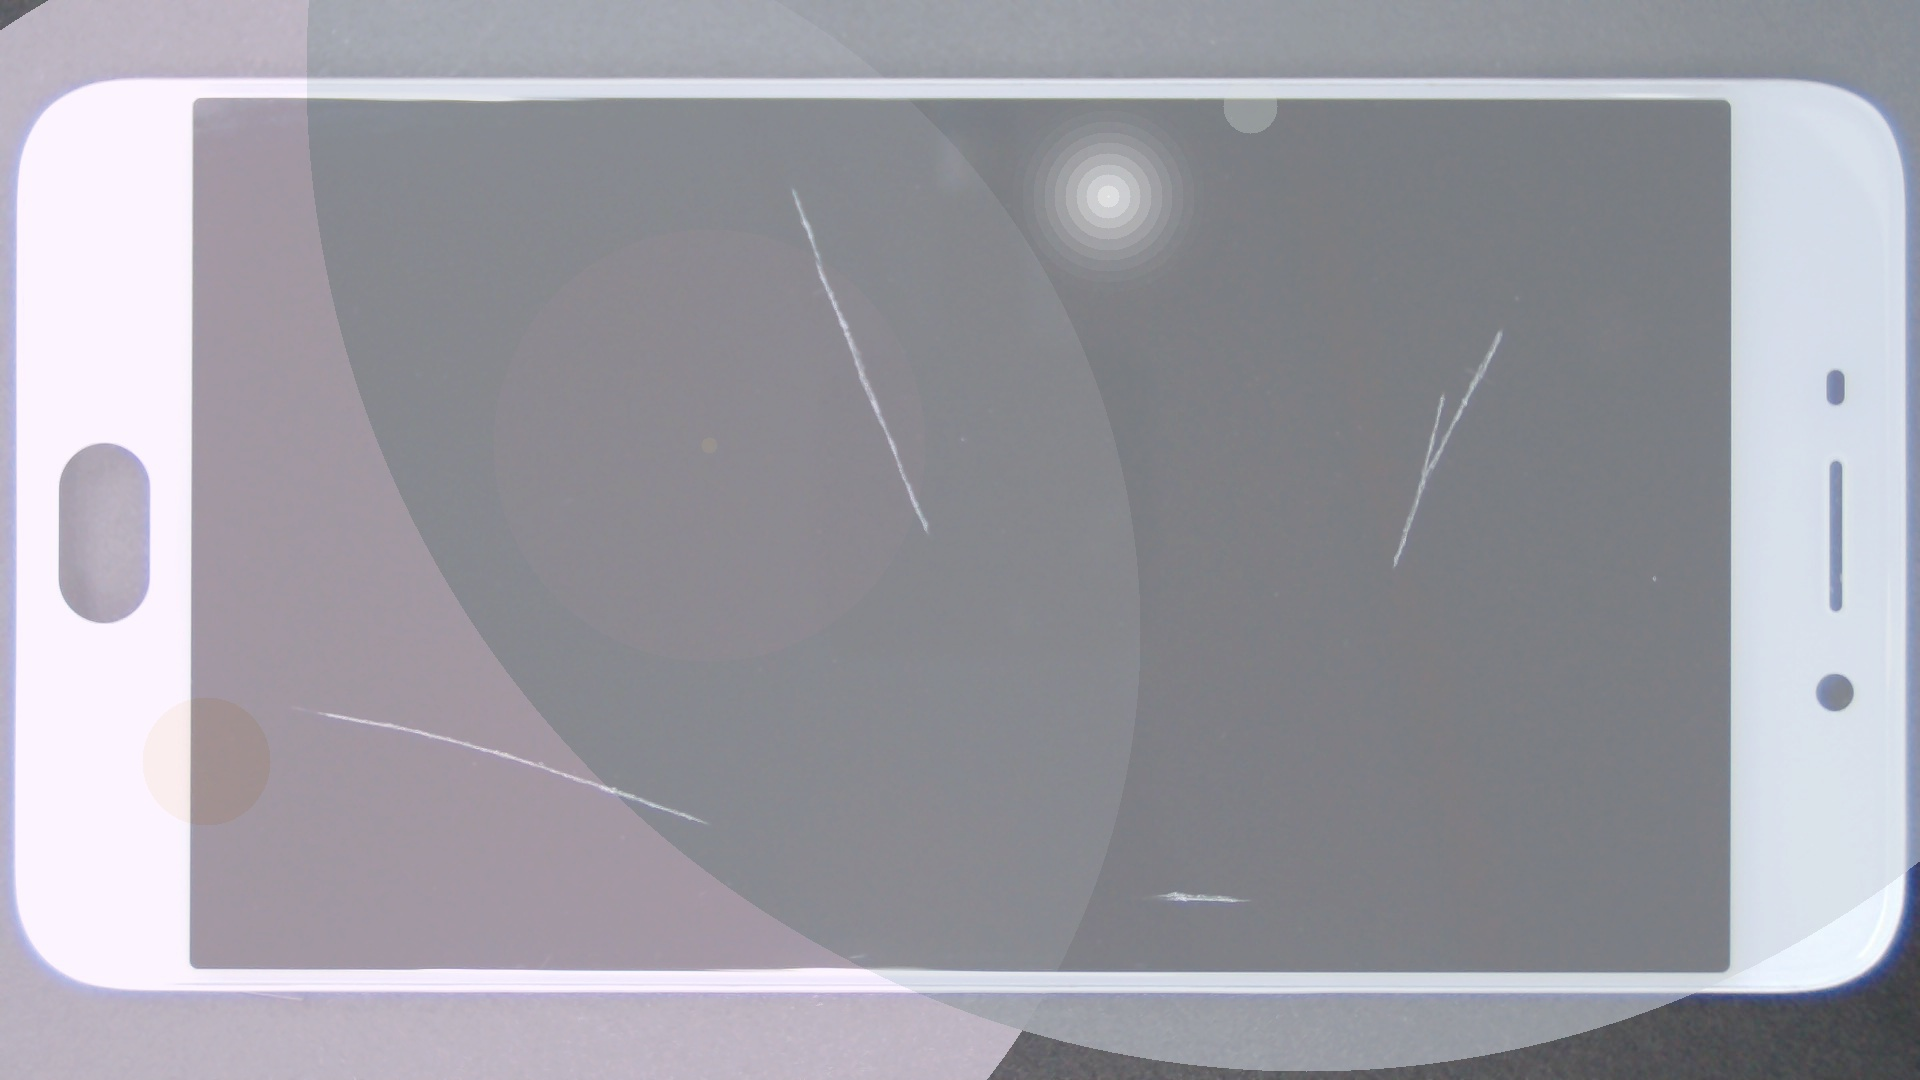oil: (588, 444, 1763, 1080), (750, 164, 1920, 495), (145, 351, 435, 1059), (396, 94, 1188, 281)
